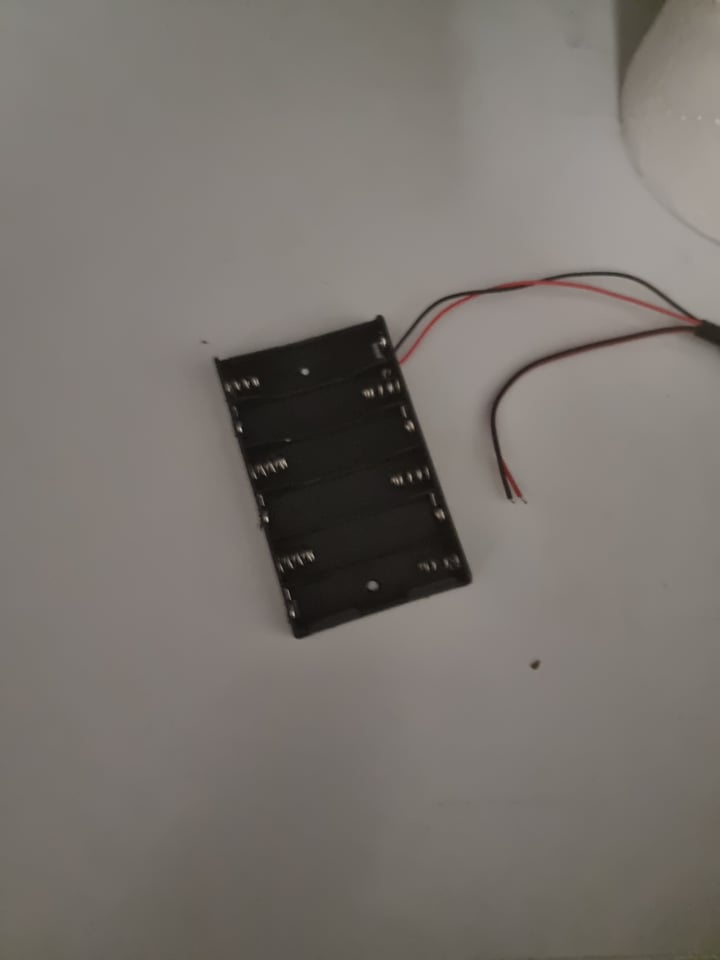BATTERY BOX: (206, 310, 471, 648)
